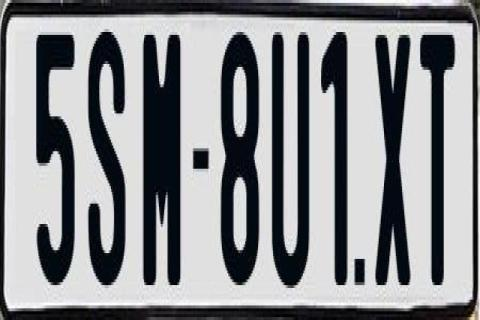0: (221, 26, 264, 282), (33, 26, 73, 294), (320, 32, 352, 296)
M: (141, 35, 185, 303)
S: (86, 32, 130, 285)
T: (420, 29, 457, 279)
U: (269, 23, 312, 291)
X: (374, 32, 412, 288)
